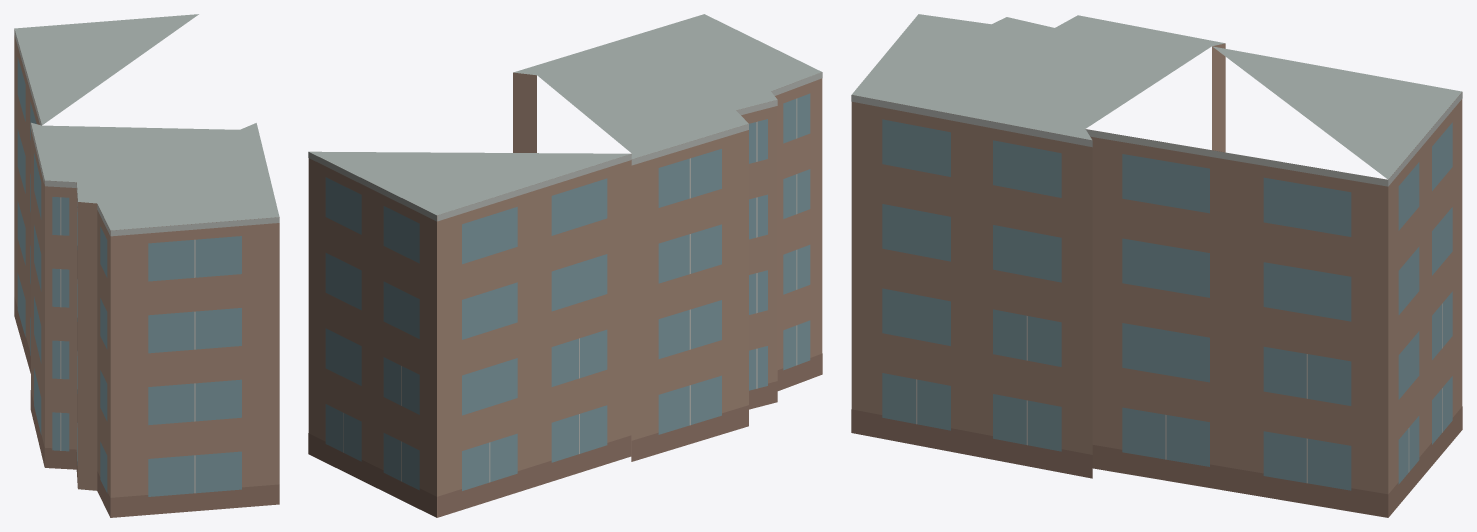
Rendered from survey-upis-32998256.glb.
3 renders of one model, left to right at view 1: azimuth 30°, elevation 25°; view 2: azimuth 150°, elevation 25°; view 3: azimuth 270°, elevation 25°, orthographic. The views are drawn at different scales.
Parts seen in each view (by area): view 1: survey-upis-32998256.tmp; view 2: survey-upis-32998256.tmp; view 3: survey-upis-32998256.tmp.
Boxes of the visible parts, x1,y1,x2,y2 form: survey-upis-32998256.tmp: [14, 14, 279, 517]; survey-upis-32998256.tmp: [308, 14, 822, 517]; survey-upis-32998256.tmp: [851, 14, 1462, 517].
Bounding box in the file's own units: 12.62 × 12 × 19.66.
